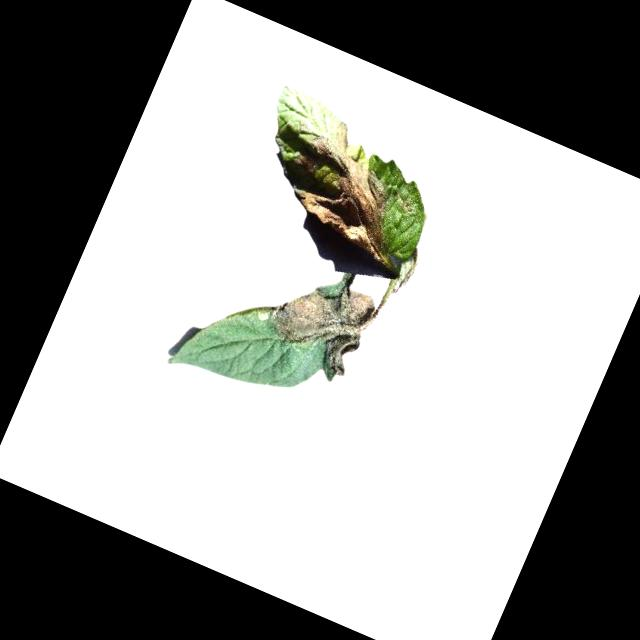Late_blight: (265, 106, 429, 262), (255, 262, 382, 388)
